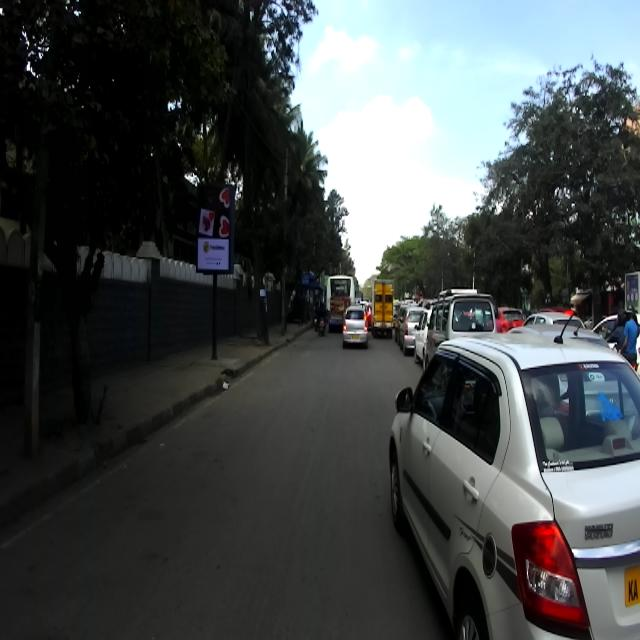barrier ahead at: (197, 177, 240, 357)
car ahead at: (392, 317, 640, 640)
